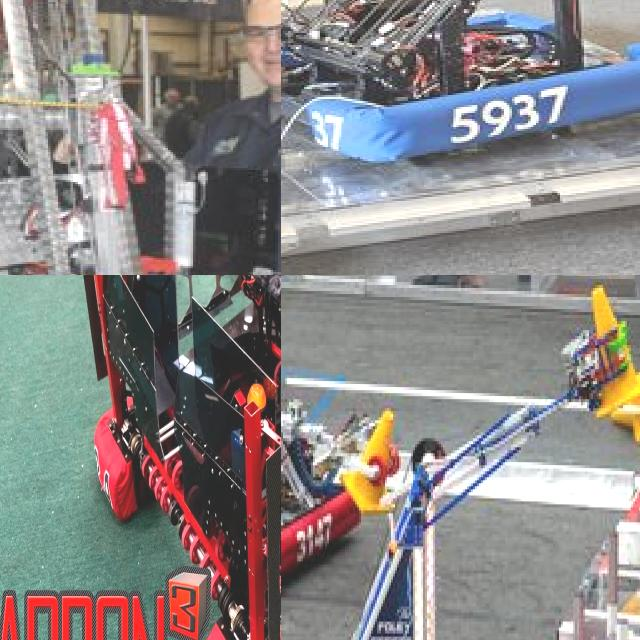FRC-Robots: (0, 0, 281, 275), (74, 275, 281, 640), (281, 364, 513, 640), (281, 0, 640, 145), (281, 346, 411, 572)
